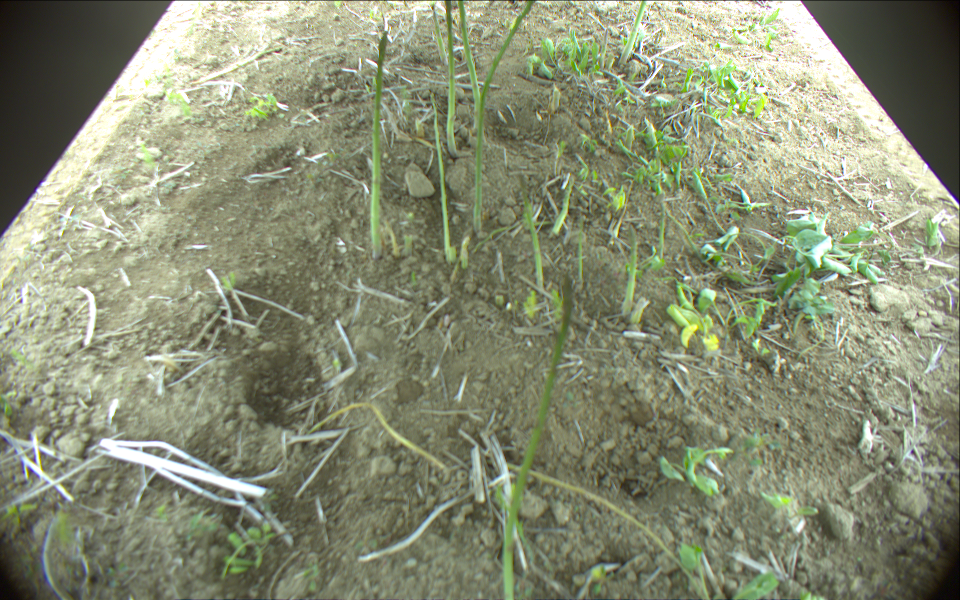aspa: (503, 274, 574, 600), (475, 1, 539, 235), (371, 32, 388, 259), (192, 47, 283, 84), (432, 92, 450, 258), (456, 1, 479, 129), (521, 193, 547, 292), (619, 1, 646, 66), (446, 1, 456, 158), (621, 224, 637, 320), (553, 177, 574, 235), (431, 7, 447, 64), (655, 195, 667, 260), (577, 227, 586, 292), (599, 25, 610, 68), (462, 236, 471, 267)
